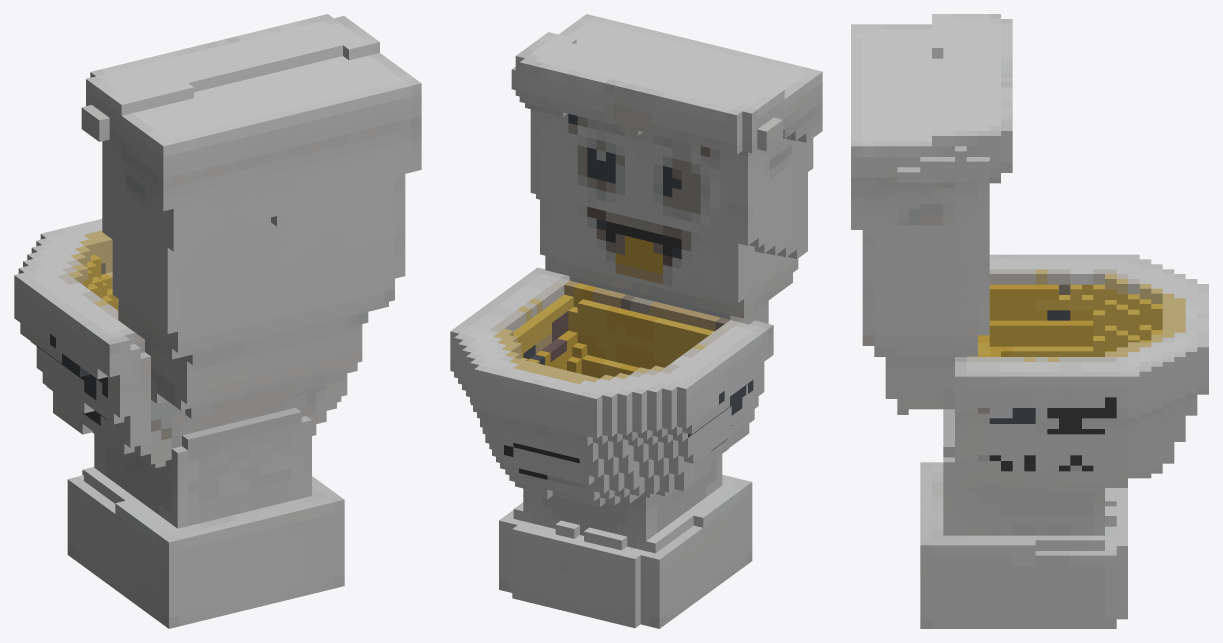
File: SpaghettiTualetti.glb
3 renders of one model, left to right at view 1: azimuth 30°, elevation 25°; view 2: azimuth 150°, elevation 25°; view 3: azimuth 270°, elevation 25°, orthographic. The views are drawn at different scales.
Visible parts, largest first — view 1: geometry_0; view 2: geometry_0; view 3: geometry_0.
Part boxes in pixels (x1,y1,x2,y2): geometry_0: [14, 14, 421, 628]; geometry_0: [450, 14, 822, 628]; geometry_0: [851, 14, 1208, 628].
Size of the model in its own units: 0.551 by 1 by 0.6327.
